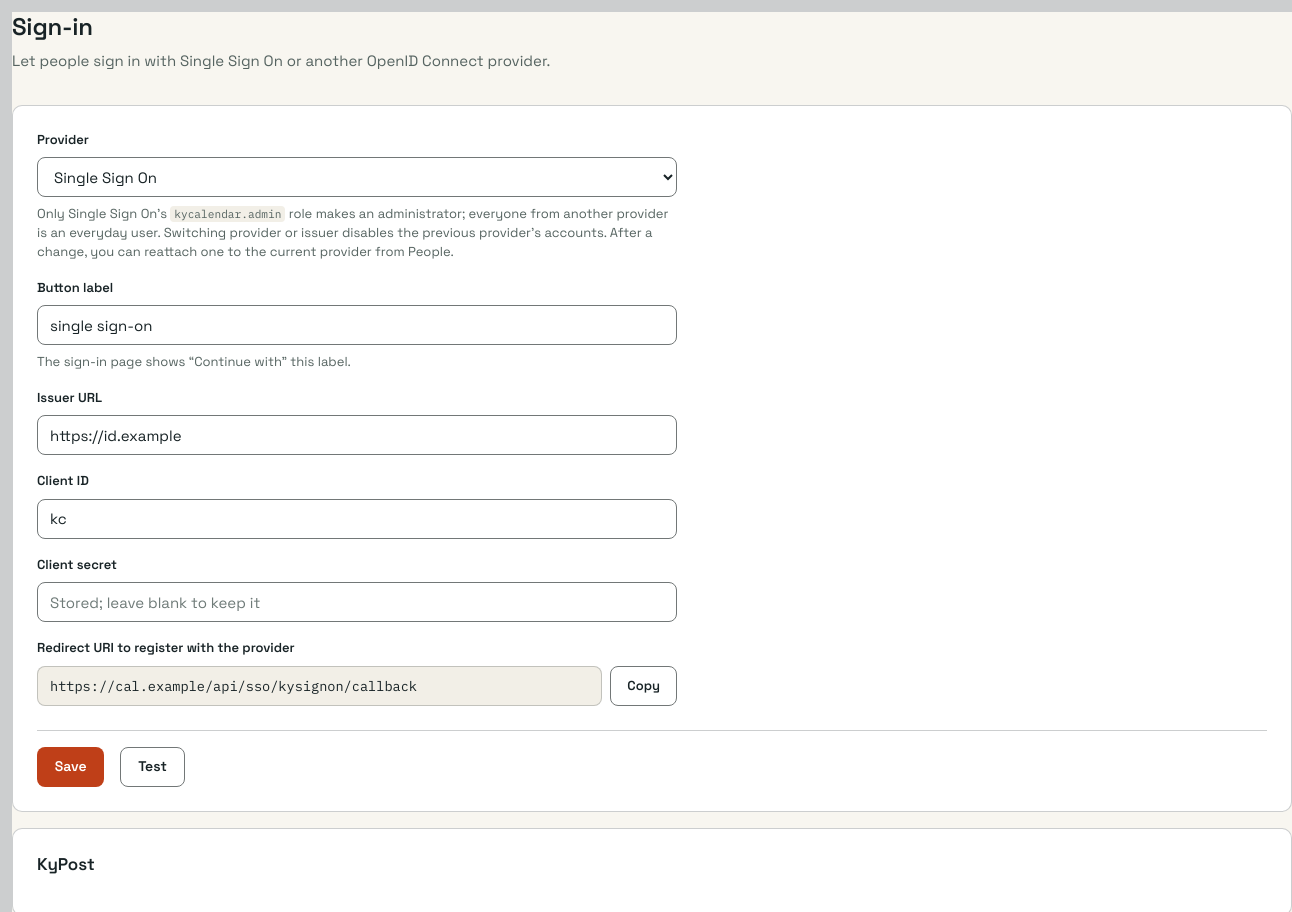
Test case: SignIn › shows why a test failed
The image size is (1292, 912).
Click the button "Test" at (152, 767), box [120,747,185,787]
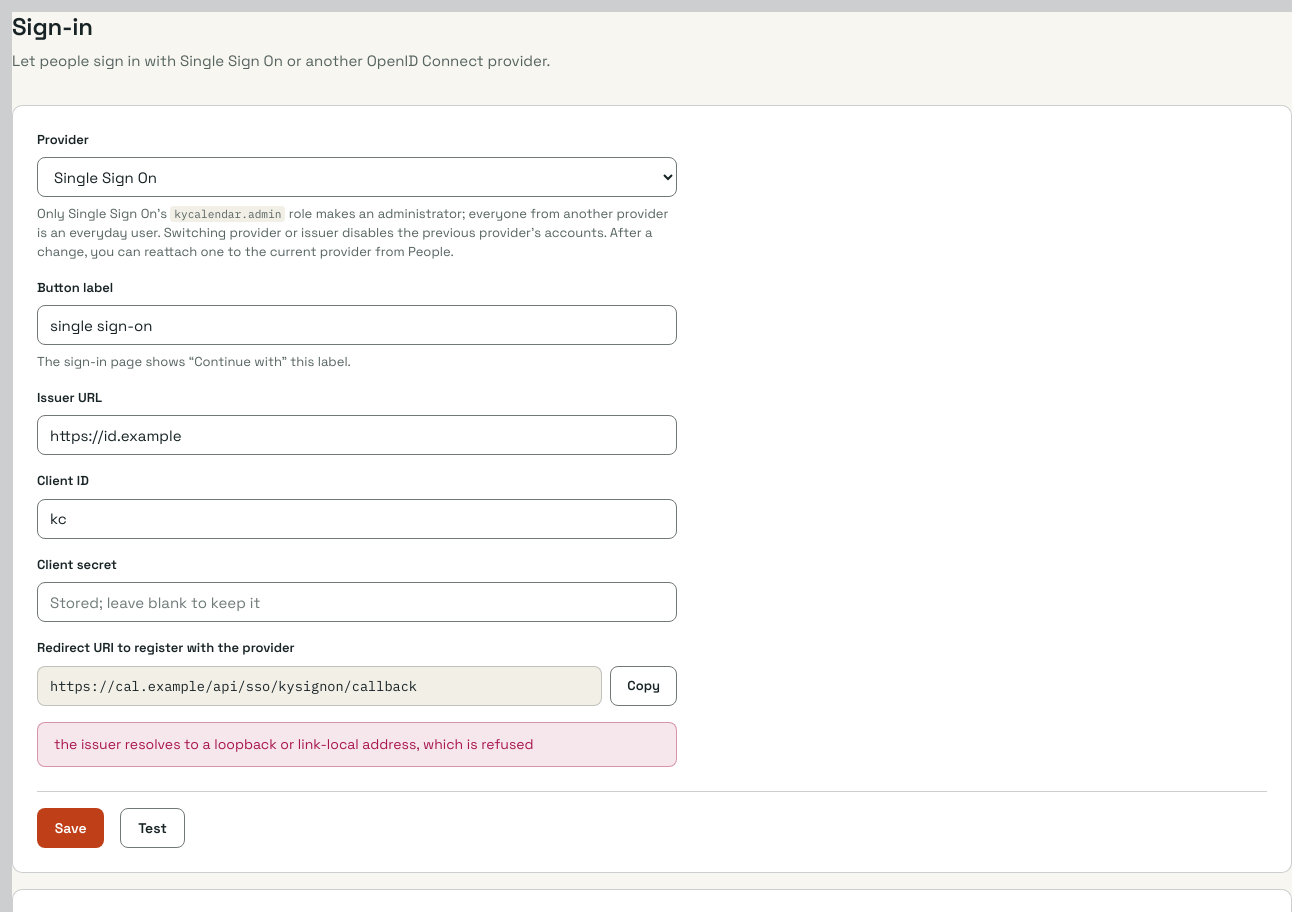
expect the message shows "loopback or link-local": met, box [54,735,534,753]
